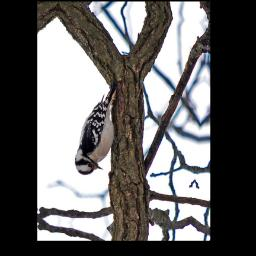Woodpecker: (73, 77, 129, 180)
